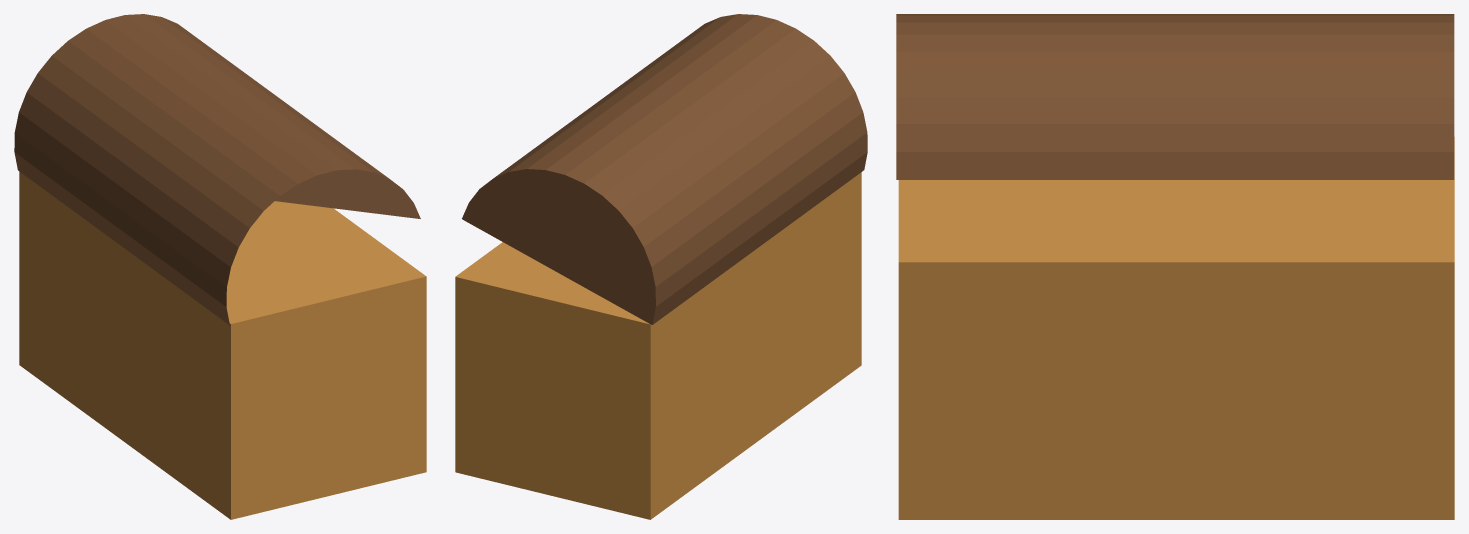
Rendered from normal_chest.fbx.
3 renders of one model, left to right at view 1: azimuth 30°, elevation 25°; view 2: azimuth 150°, elevation 25°; view 3: azimuth 270°, elevation 25°, orthographic. The views are drawn at different scales.
Visible parts, largest first — view 1: Cube, Cylinder; view 2: Cube, Cylinder; view 3: Cube, Cylinder.
Part boxes in pixels (x1,y1,x2,y2): Cube: [19, 171, 426, 519]; Cylinder: [14, 14, 420, 325]; Cube: [455, 172, 861, 519]; Cylinder: [462, 14, 867, 324]; Cube: [898, 137, 1454, 519]; Cylinder: [896, 14, 1454, 179].
Size of the model in its own units: 98.68 by 152 by 181.
